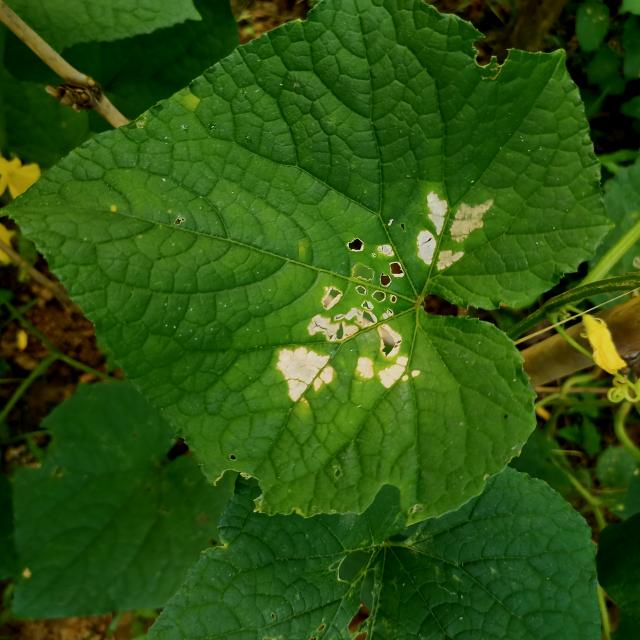disease_cucumber: (274, 230, 422, 418), (413, 186, 492, 276)
